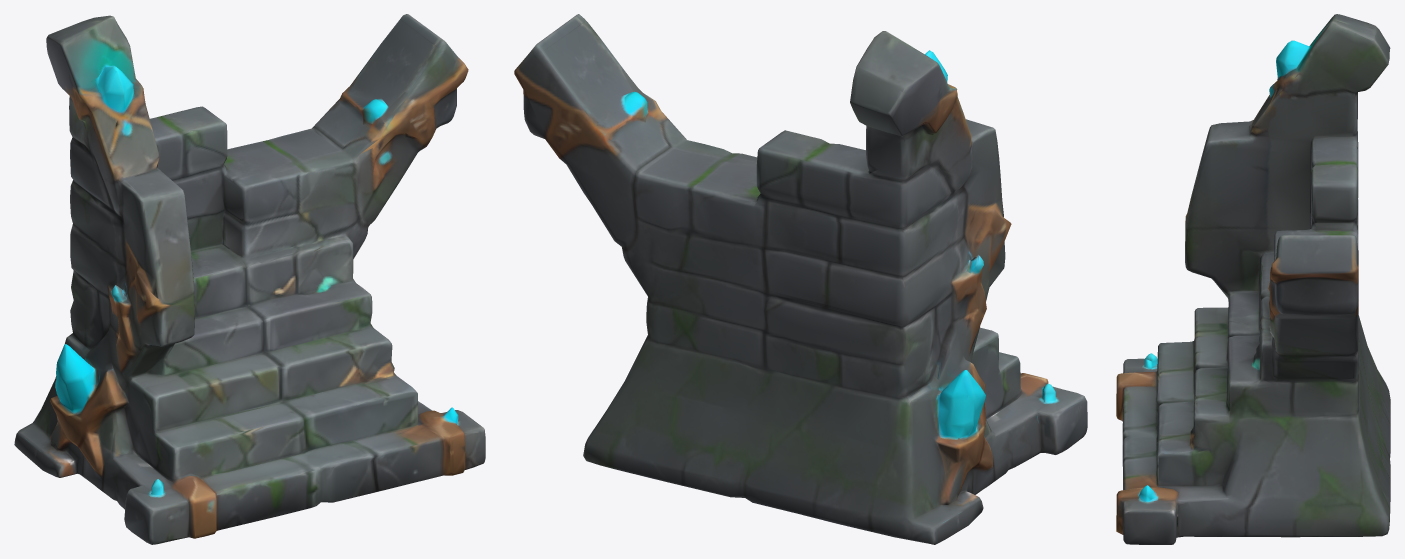
The model's file is stairs.glb.
The picture shows the model from 3 angles, left to right: view 1: azimuth 30°, elevation 25°; view 2: azimuth 150°, elevation 25°; view 3: azimuth 270°, elevation 25°; orthographic projection. The views are drawn at different scales.
Visible parts, largest first — view 1: model.002; view 2: model.002; view 3: model.002.
Boxes of the visible parts, box(x1,y1,x2,y2) form: model.002: box(14, 14, 485, 544); model.002: box(514, 14, 1087, 544); model.002: box(1116, 14, 1390, 544).
Bounding box in the file's own units: 1.83 × 1.89 × 1.16.
Materials: 1 (1 with a texture image).
